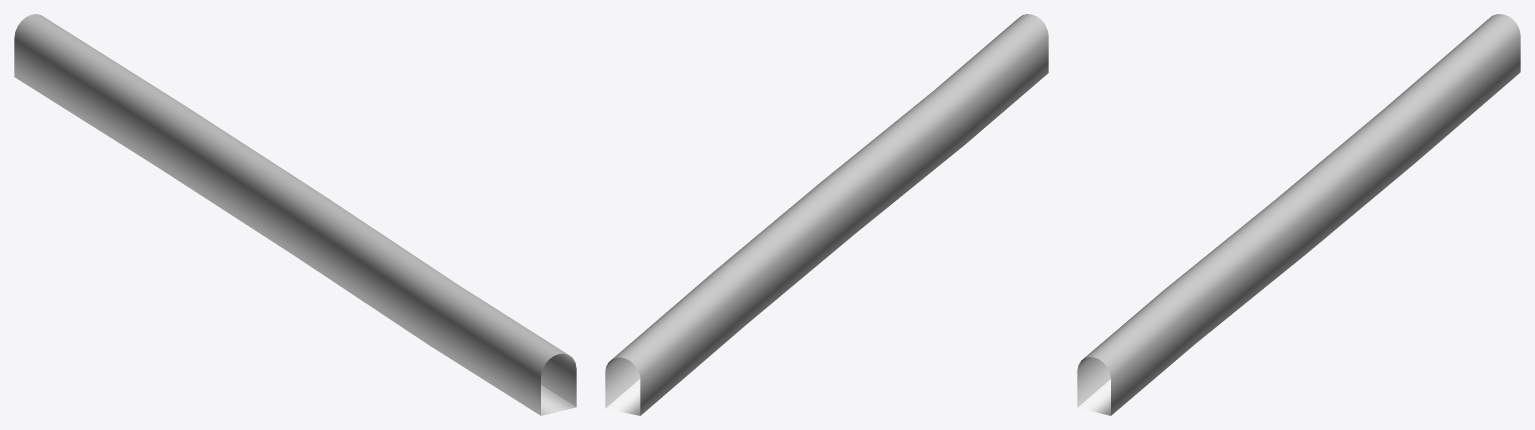
The model's file is S_Corridor.fbx.
3 views of the same model, side by side, from view 1: azimuth 30°, elevation 25°; view 2: azimuth 150°, elevation 25°; view 3: azimuth 330°, elevation 25° (orthographic). The views are drawn at different scales.
Visible parts, largest first — view 1: Corridor; view 2: Corridor; view 3: Corridor.
Part boxes in pixels (<box>): Corridor: <box>14,14,576,415</box>; Corridor: <box>605,14,1048,415</box>; Corridor: <box>1077,14,1520,415</box>.
Bounding box in the file's own units: 9.31 × 6.17 × 93.13.
